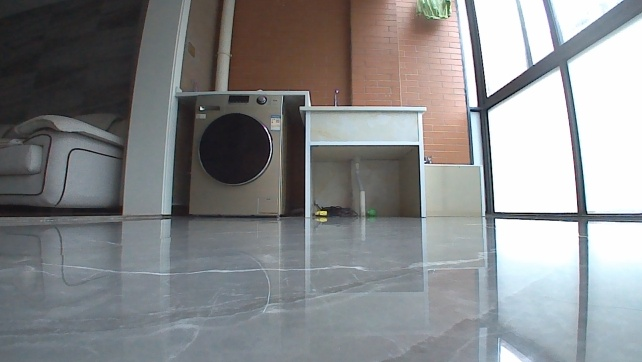sofe1: (0, 108, 127, 215)
washing_machine: (184, 92, 295, 220)
